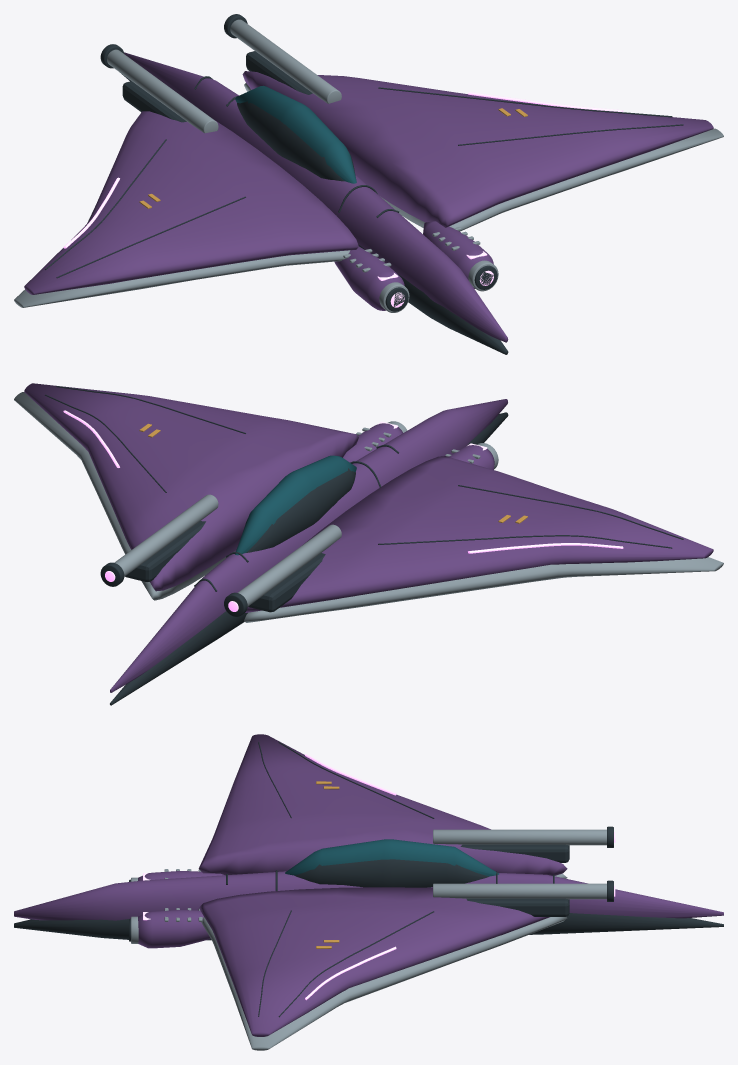
Rendered from boss-2-p2.glb.
3 views of the same model, one above another, from view 1: azimuth 30°, elevation 25°; view 2: azimuth 150°, elevation 25°; view 3: azimuth 270°, elevation 25° (orthographic). The views are drawn at different scales.
Parts seen in each view (by area): view 1: SM_Wing_Right, SM_Wing_Left, SM_Hull, SM_Weapon_Left, SM_Weapon_Right, SM_Engine_Left, SM_Engine_Right; view 2: SM_Wing_Left, SM_Wing_Right, SM_Hull, SM_Weapon_Left, SM_Weapon_Right, SM_Engine_Right, SM_Engine_Left; view 3: SM_Wing_Right, SM_Hull, SM_Wing_Left, SM_Weapon_Right, SM_Weapon_Left, SM_Engine_Right, SM_Engine_Left.
Part boxes in pixels (left/top/right/bottom): SM_Wing_Right: left=242, top=71, right=723, bottom=231; SM_Wing_Left: left=14, top=111, right=358, bottom=307; SM_Hull: left=121, top=52, right=508, bottom=354; SM_Weapon_Left: left=100, top=44, right=218, bottom=133; SM_Weapon_Right: left=224, top=14, right=341, bottom=103; SM_Engine_Left: left=334, top=246, right=409, bottom=312; SM_Engine_Right: left=423, top=221, right=498, bottom=291; SM_Wing_Left: left=244, top=456, right=723, bottom=622; SM_Wing_Right: left=14, top=383, right=358, bottom=600; SM_Hull: left=110, top=399, right=508, bottom=705; SM_Weapon_Left: left=224, top=524, right=341, bottom=616; SM_Weapon_Right: left=100, top=494, right=218, bottom=586; SM_Engine_Right: left=343, top=421, right=407, bottom=462; SM_Engine_Left: left=445, top=443, right=498, bottom=469; SM_Wing_Right: left=199, top=887, right=567, bottom=1050; SM_Hull: left=14, top=839, right=723, bottom=940; SM_Wing_Left: left=198, top=734, right=567, bottom=878; SM_Weapon_Right: left=433, top=880, right=615, bottom=916; SM_Weapon_Left: left=433, top=826, right=615, bottom=862; SM_Engine_Right: left=129, top=908, right=210, bottom=948; SM_Engine_Left: left=129, top=869, right=224, bottom=881.
Size of the model in its own units: 10.22 by 1.53 by 10.
